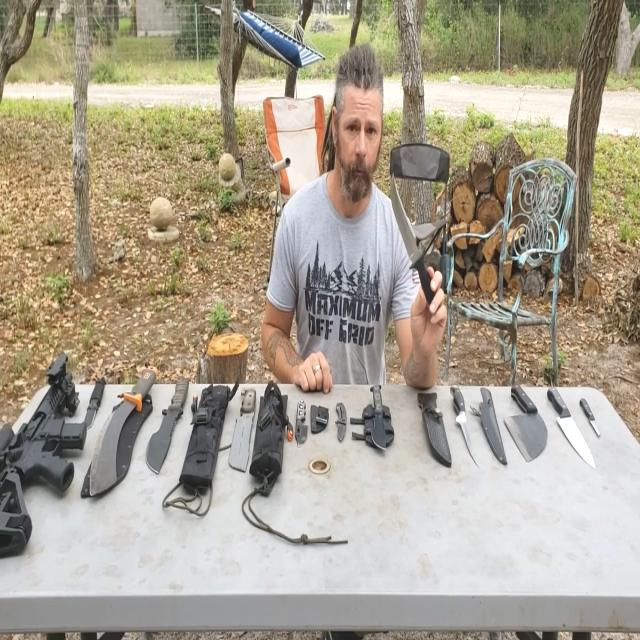knife: (107, 362, 156, 498), (546, 361, 600, 474), (380, 180, 442, 274), (147, 378, 199, 488), (228, 382, 272, 504), (502, 374, 554, 466), (450, 373, 482, 468), (372, 372, 404, 465), (292, 383, 316, 468), (80, 381, 110, 427), (330, 392, 350, 460), (576, 390, 604, 436)
long weapon: (0, 336, 98, 604)
